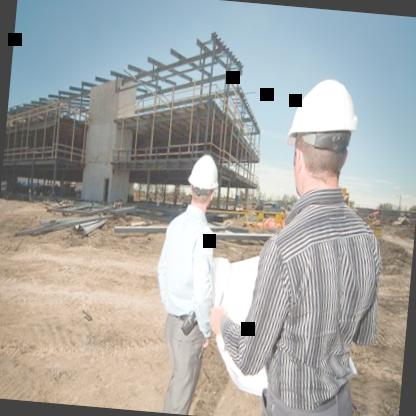helmet: (276, 64, 366, 201), (183, 142, 224, 223)
